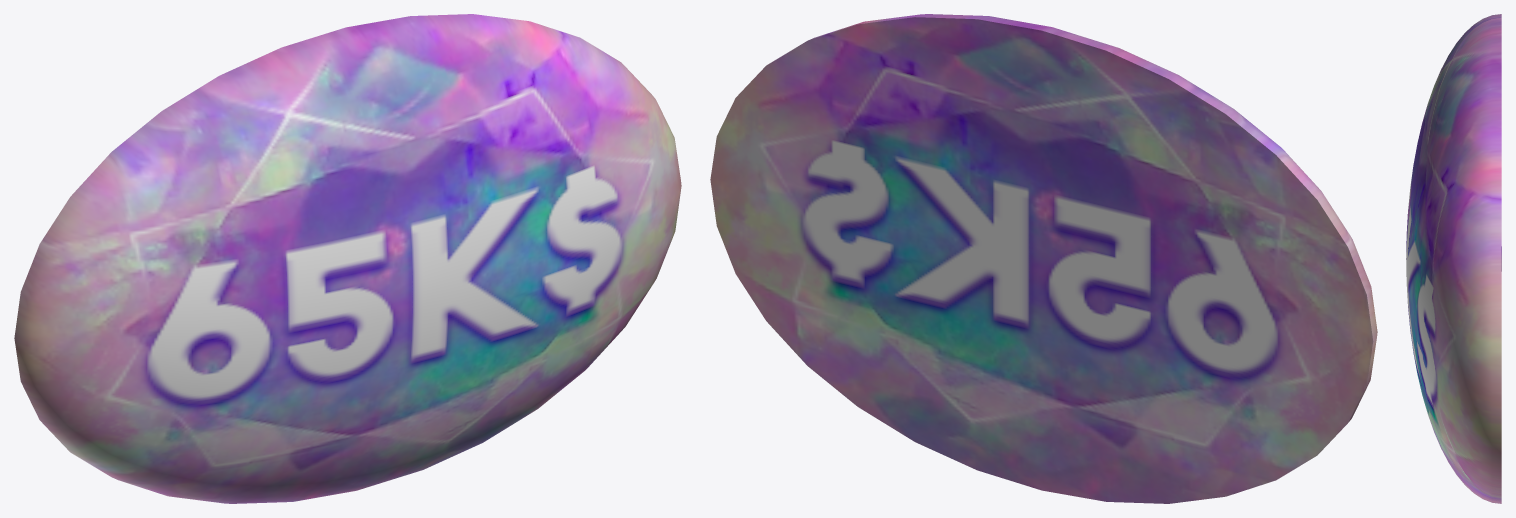
The model's file is 19_64KDollars.fbx.
3 renders of one model, left to right at view 1: azimuth 30°, elevation 25°; view 2: azimuth 150°, elevation 25°; view 3: azimuth 270°, elevation 25°, orthographic. The views are drawn at different scales.
Visible parts, largest first — view 1: _65KDollars; view 2: _65KDollars; view 3: _65KDollars.
Part boxes in pixels (x1,y1,x2,y2): _65KDollars: [14, 14, 681, 503]; _65KDollars: [710, 14, 1377, 503]; _65KDollars: [1406, 14, 1501, 503].
Size of the model in its own units: 79.47 by 52.69 by 11.4.
1 material, 1 textured.
